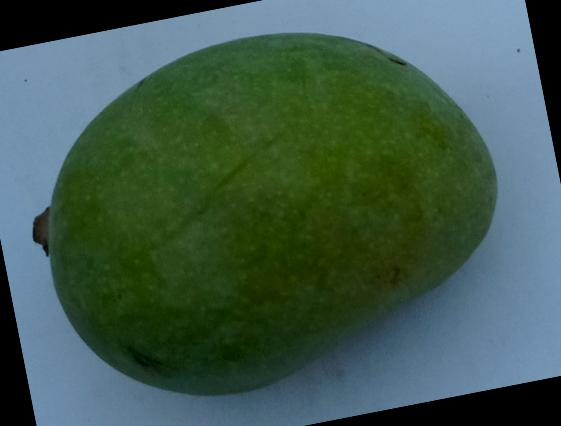Mango Unripe: (0, 0, 527, 411)
